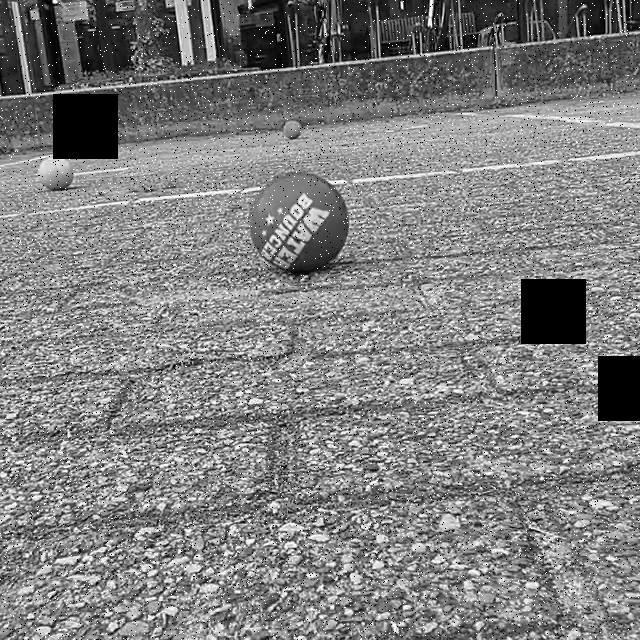ball: (38, 153, 76, 195), (279, 114, 303, 142)
